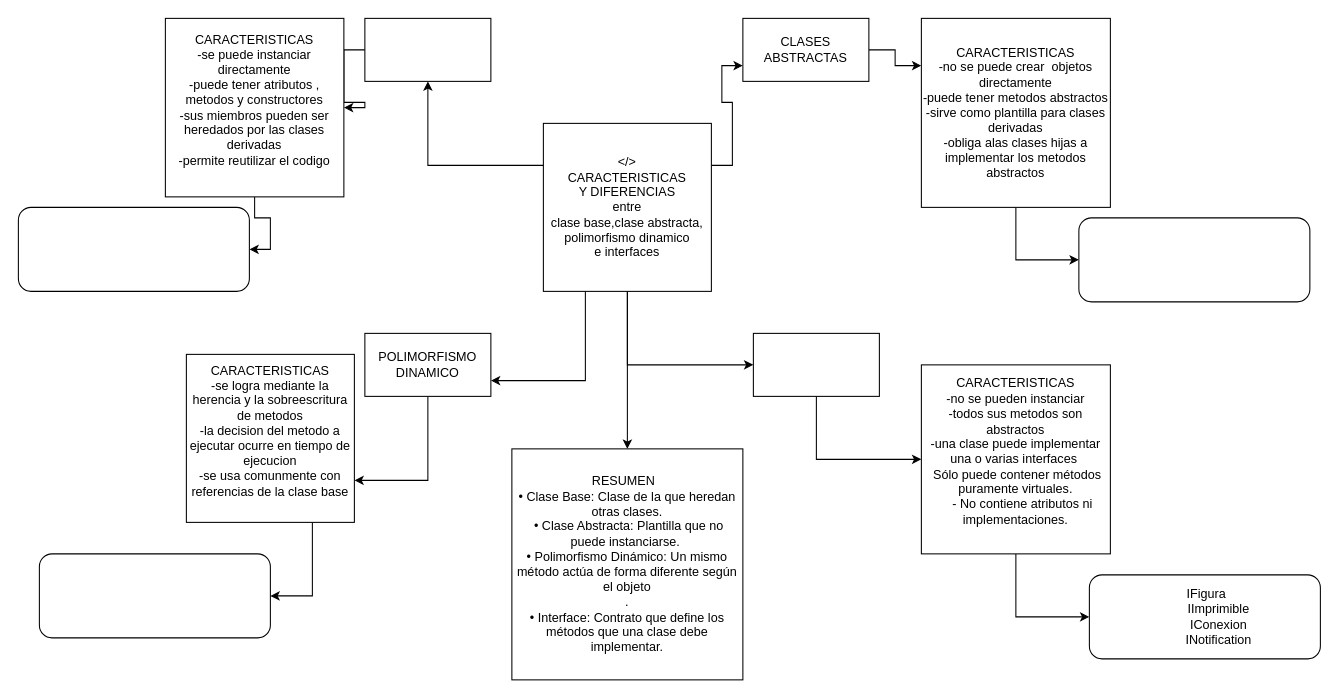
This 1339x698 diagram has some shape labels left out. Here are the shapes that lost their labels. From the top down, the box of each, then its label:
(364, 17, 491, 81): CLASE BASE
(17, 206, 249, 291): class Animal { }
(1078, 217, 1310, 302): abstract class Figura { public abstract double Area(); }
(752, 332, 879, 396): INTERFACES
(38, 553, 270, 638): Animal a = new Perro(); a.Hablar();
